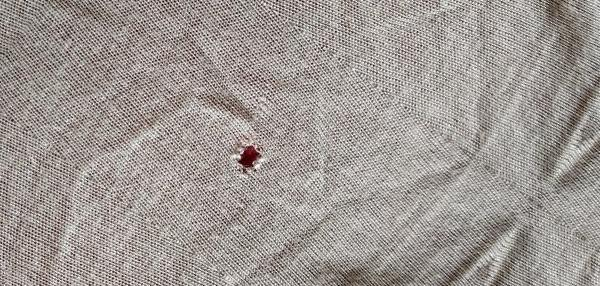hole: (232, 141, 269, 176)
